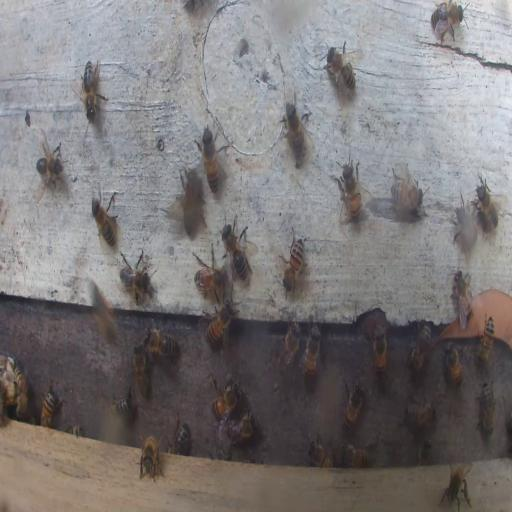bee: (117, 250, 155, 305), (220, 215, 251, 281), (323, 44, 357, 98), (88, 280, 117, 342), (338, 152, 363, 223), (282, 97, 308, 164), (440, 461, 473, 511), (281, 230, 306, 295), (34, 139, 64, 193), (78, 59, 104, 121), (181, 166, 203, 238), (475, 174, 501, 230), (430, 2, 466, 42), (92, 193, 118, 248), (391, 170, 422, 216), (199, 126, 220, 193), (192, 256, 224, 296), (138, 434, 164, 482), (453, 268, 473, 330), (211, 381, 241, 422), (407, 322, 431, 373), (206, 301, 234, 344), (342, 381, 366, 431), (280, 317, 301, 371), (456, 203, 480, 249), (302, 323, 321, 381), (146, 326, 177, 360), (132, 340, 150, 398), (226, 409, 254, 444), (478, 381, 496, 435), (444, 342, 464, 388), (405, 400, 437, 428), (476, 315, 495, 362), (12, 366, 28, 421), (110, 381, 135, 416), (167, 419, 190, 454), (342, 442, 372, 468), (41, 387, 58, 429), (372, 325, 386, 375), (308, 440, 333, 467), (416, 436, 432, 464)
